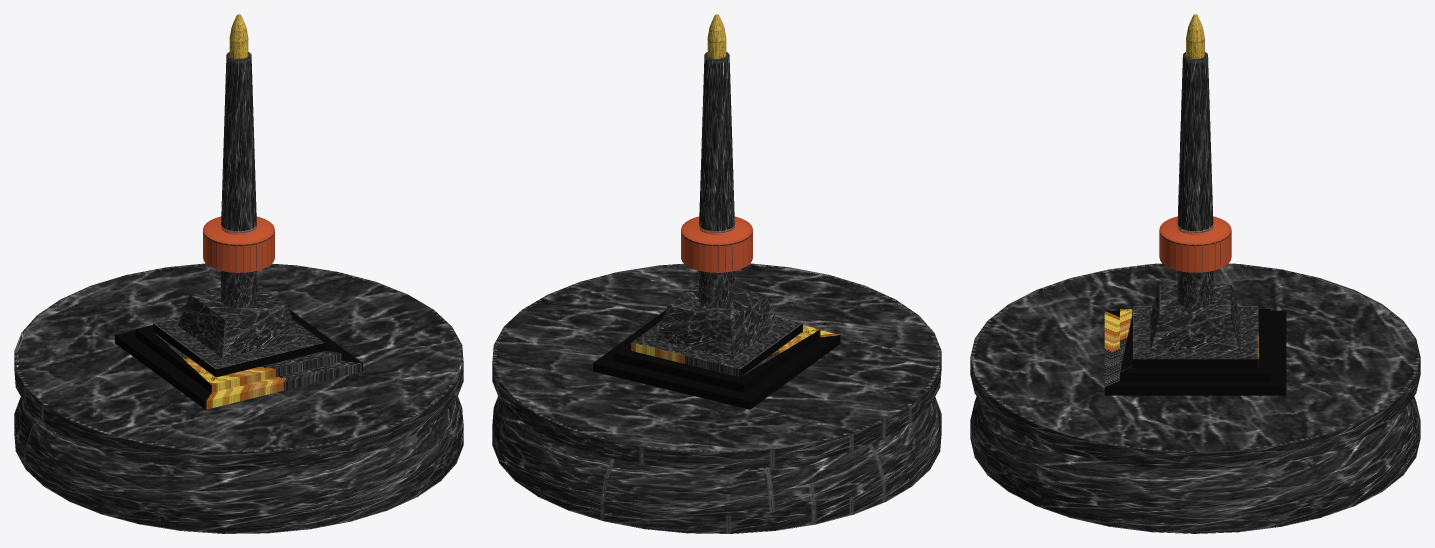
Rendered from tugu malang.fbx.
3 views of the same model, side by side, from view 1: azimuth 30°, elevation 25°; view 2: azimuth 150°, elevation 25°; view 3: azimuth 270°, elevation 25° (orthographic).
Visible parts, largest first — view 1: Cylinder.006; view 2: Cylinder.006; view 3: Cylinder.006.
Boxes of the visible parts, <box> form: Cylinder.006: <box>14,14,463,533</box>; Cylinder.006: <box>492,14,941,533</box>; Cylinder.006: <box>970,14,1420,533</box>.
Bounding box in the file's own units: 1000 × 1039 × 1000.
1 material, 1 textured.
